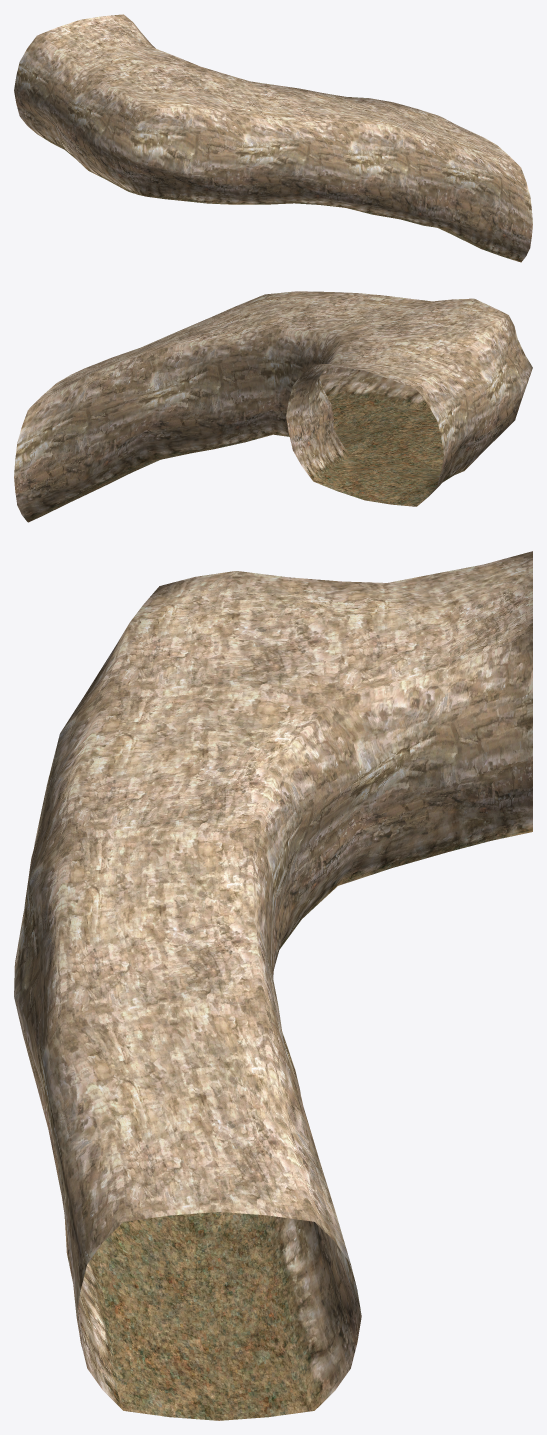
Rendered from thm_all_cave_s03_mirror_r17_mesh_r17.fbx.
3 renders of one model, top to bottom at view 1: azimuth 30°, elevation 25°; view 2: azimuth 150°, elevation 25°; view 3: azimuth 270°, elevation 25°, orthographic. The views are drawn at different scales.
Visible parts, largest first — view 1: mesh_node; view 2: mesh_node; view 3: mesh_node.
Boxes of the visible parts, x1,y1,x2,y2 form: mesh_node: (14, 14, 532, 262); mesh_node: (14, 291, 532, 522); mesh_node: (14, 551, 532, 1420).
Bounding box in the file's own units: 32.95 × 19.86 × 18.36.
